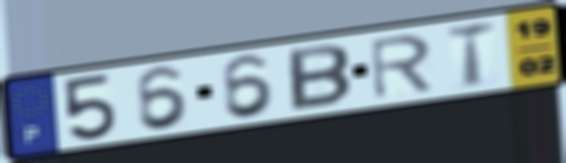5: (61, 70, 120, 144)
6: (134, 64, 191, 133), (220, 52, 276, 121)
B: (285, 42, 354, 114)
R: (367, 32, 437, 102)
T: (444, 18, 499, 91)
